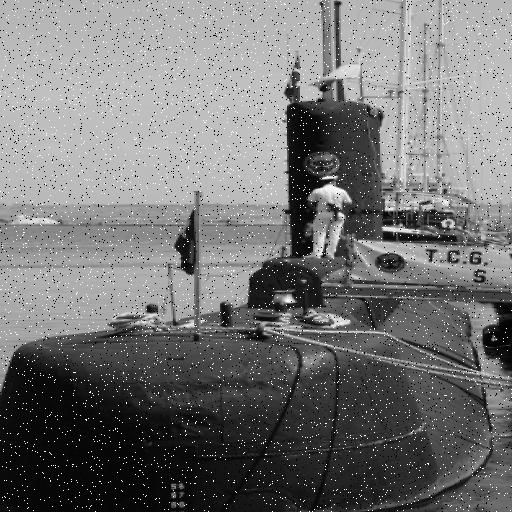submarine: (1, 1, 503, 512)
